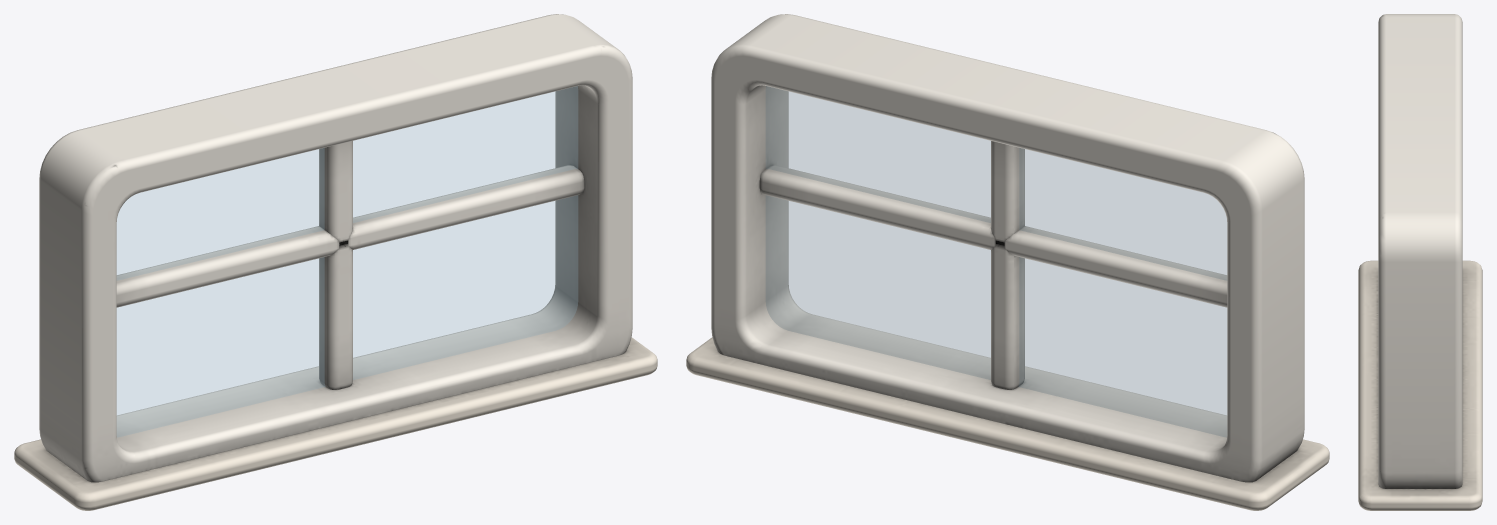
The model's file is office_window.glb.
3 renders of one model, left to right at view 1: azimuth 30°, elevation 25°; view 2: azimuth 150°, elevation 25°; view 3: azimuth 270°, elevation 25°, orthographic. The views are drawn at different scales.
Parts seen in each view (by area): view 1: office_window; view 2: office_window; view 3: office_window.
Part boxes in pixels (x1,y1,x2,y2): office_window: (14, 14, 657, 510); office_window: (686, 14, 1329, 510); office_window: (1358, 14, 1482, 510).
Size of the model in its own units: 2.56 by 1.39 by 0.56.
Materials: 3 (2 with a texture image).
